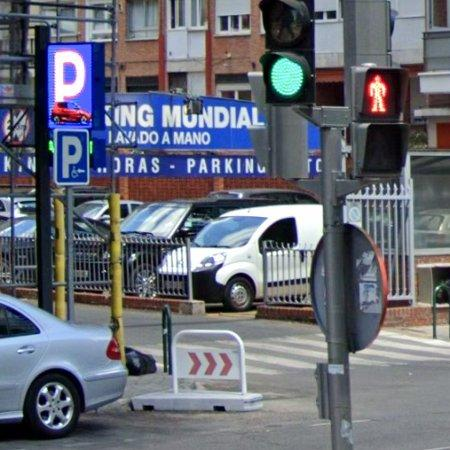cars: (0, 295, 127, 438), (191, 205, 324, 310), (159, 249, 185, 288)
